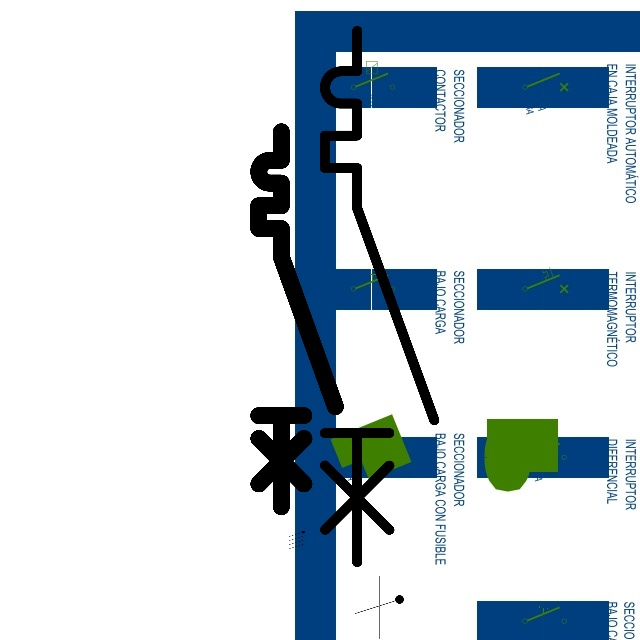interruptor_termomagnetico: (311, 17, 448, 576), (249, 122, 345, 516)
